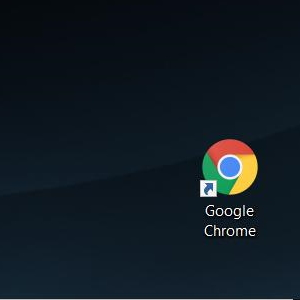chrome: (199, 138, 257, 197)
